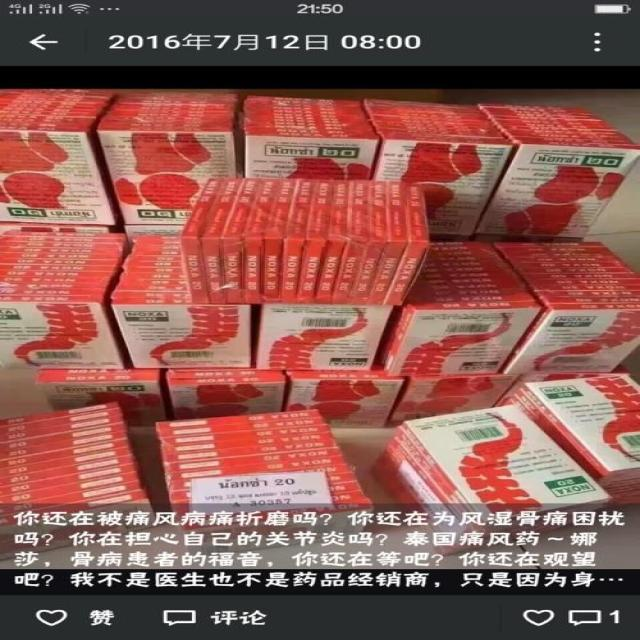box: (401, 405, 614, 523), (477, 142, 640, 238), (372, 135, 513, 236), (97, 131, 237, 224), (521, 375, 640, 477), (384, 302, 541, 375), (178, 498, 376, 554), (1, 492, 159, 560), (0, 132, 115, 225), (502, 302, 640, 374), (256, 303, 392, 371), (111, 305, 251, 368), (0, 302, 124, 369), (512, 389, 604, 476), (397, 428, 480, 521), (509, 397, 599, 478), (387, 374, 520, 427), (36, 374, 168, 427), (392, 436, 471, 522), (285, 374, 406, 428), (244, 136, 379, 179), (384, 183, 430, 306), (180, 178, 223, 304), (168, 375, 287, 420), (365, 181, 408, 305), (201, 178, 242, 305), (349, 180, 388, 305), (221, 178, 259, 305), (164, 456, 352, 481), (1, 482, 142, 515), (0, 472, 141, 505), (0, 464, 141, 497), (332, 180, 369, 305), (165, 447, 346, 472), (0, 454, 136, 487), (297, 179, 332, 304), (261, 178, 296, 302), (316, 179, 349, 305), (279, 178, 312, 303), (0, 446, 133, 477), (0, 438, 129, 469), (243, 179, 274, 305), (165, 439, 339, 461), (0, 413, 123, 443), (163, 431, 335, 452), (0, 422, 124, 451), (0, 431, 128, 459), (155, 416, 326, 436), (159, 423, 330, 443), (0, 407, 122, 434), (155, 410, 321, 429), (0, 400, 119, 426), (375, 128, 506, 139), (371, 121, 502, 132), (367, 114, 498, 125), (512, 135, 639, 145), (506, 130, 632, 140), (486, 112, 608, 122), (480, 107, 599, 117), (407, 295, 535, 304), (499, 125, 626, 134), (492, 118, 618, 127), (407, 288, 530, 297), (165, 370, 285, 379), (475, 102, 594, 111), (366, 109, 489, 117), (244, 131, 379, 138), (366, 104, 484, 112), (411, 282, 526, 290), (244, 117, 374, 124), (0, 276, 113, 284), (365, 99, 476, 107), (531, 284, 640, 292), (0, 282, 108, 290), (243, 95, 365, 102), (536, 290, 640, 298), (520, 272, 636, 279), (0, 264, 115, 271), (243, 127, 376, 133), (0, 269, 114, 276), (526, 279, 640, 286), (516, 266, 630, 273), (244, 122, 374, 128), (244, 114, 371, 120), (0, 289, 105, 296), (244, 104, 366, 110), (0, 295, 104, 302), (244, 100, 365, 106), (38, 368, 159, 374), (416, 266, 516, 273), (540, 297, 640, 304), (284, 464, 353, 474), (96, 127, 233, 132), (498, 246, 612, 252), (503, 251, 617, 257), (507, 256, 621, 262), (512, 261, 626, 267), (492, 241, 605, 247), (104, 115, 232, 120), (243, 109, 367, 114), (284, 369, 387, 375), (109, 112, 232, 117), (118, 97, 236, 102), (0, 89, 118, 94), (413, 278, 524, 283), (0, 99, 110, 104), (420, 260, 511, 266), (100, 123, 232, 127), (415, 274, 520, 279), (0, 107, 104, 112), (116, 280, 189, 287), (113, 105, 236, 109), (111, 109, 234, 113), (111, 299, 193, 305), (110, 292, 192, 298), (115, 101, 236, 105), (120, 90, 238, 94), (119, 94, 237, 98), (424, 254, 502, 260), (0, 120, 93, 125), (0, 94, 116, 98), (333, 490, 370, 502), (425, 249, 498, 255), (0, 127, 86, 132), (0, 104, 106, 108), (119, 274, 187, 280), (0, 111, 99, 115), (101, 120, 232, 123), (122, 268, 187, 274), (0, 114, 97, 118), (0, 117, 97, 121), (114, 287, 191, 292), (123, 262, 187, 268), (326, 472, 358, 484), (0, 124, 91, 128), (329, 482, 362, 493), (127, 253, 186, 259), (429, 245, 494, 250), (131, 248, 183, 254), (166, 479, 192, 491), (124, 258, 186, 263), (134, 243, 182, 249), (174, 509, 195, 522), (170, 499, 192, 511), (429, 241, 492, 245), (134, 235, 182, 240), (134, 240, 182, 245), (169, 492, 191, 501)
